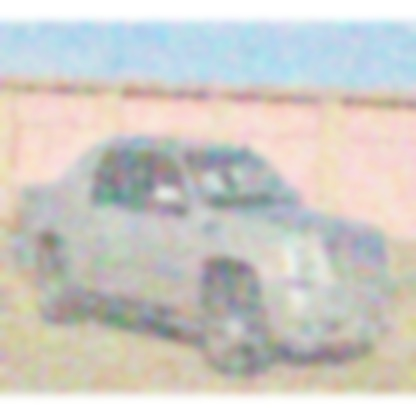Vehicle: (15, 143, 402, 380)
